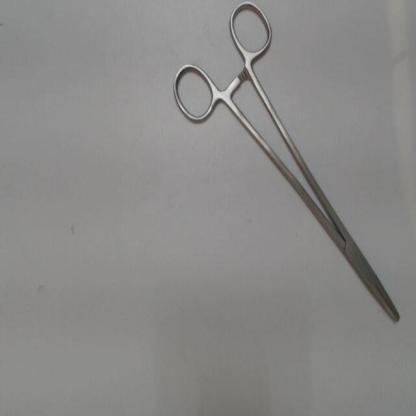8 Mayo Needle Holder: (167, 0, 410, 339)
